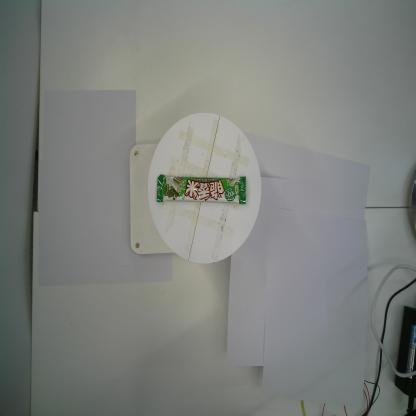Chocolate: (154, 172, 247, 207)
